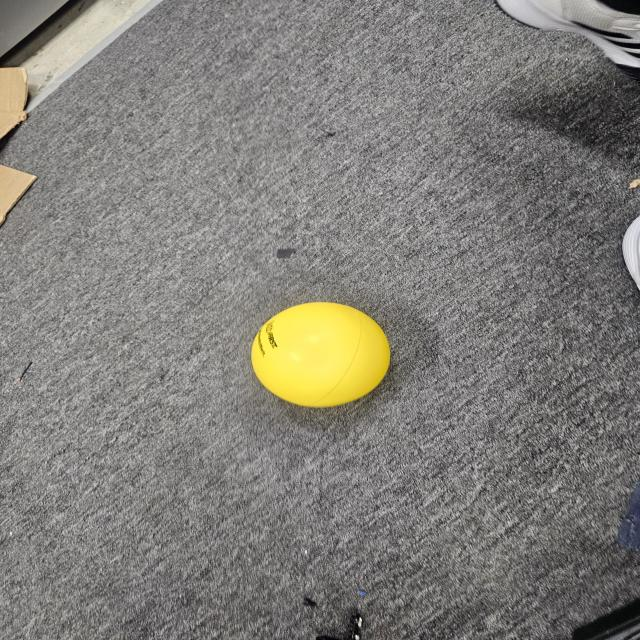Fuel: (247, 298, 397, 412)
